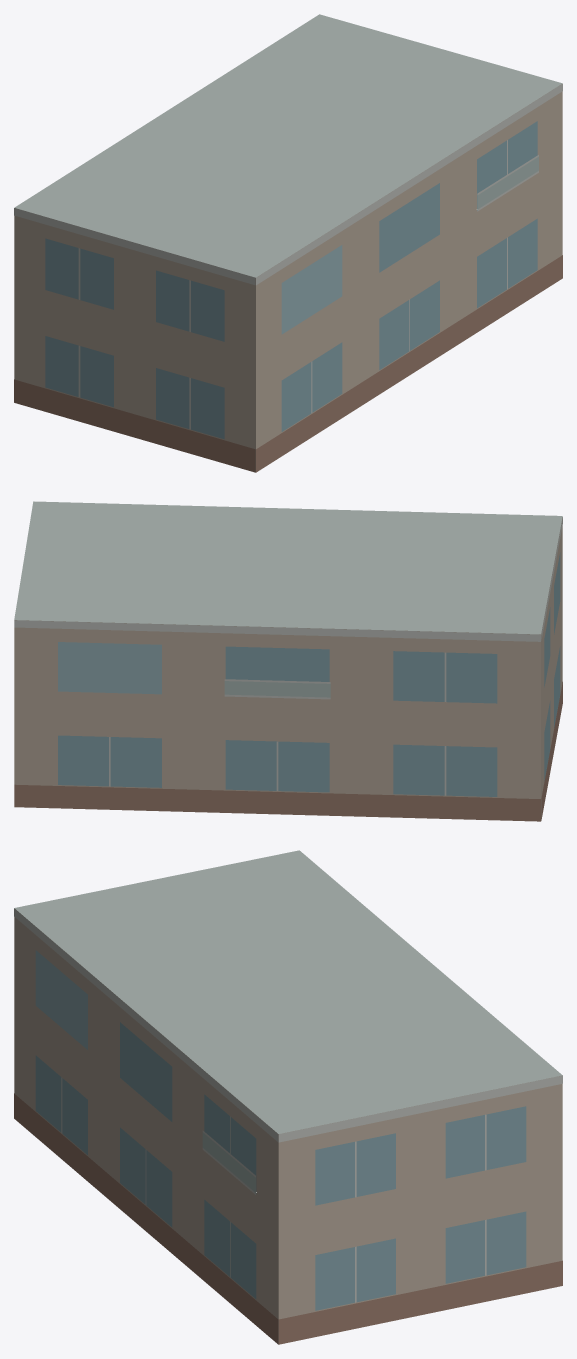
Rendered from survey-upis-32704794.glb.
3 views of the same model, one above another, from view 1: azimuth 30°, elevation 25°; view 2: azimuth 150°, elevation 25°; view 3: azimuth 270°, elevation 25° (orthographic). The views are drawn at different scales.
Parts seen in each view (by area): view 1: survey-upis-32704794.tmp; view 2: survey-upis-32704794.tmp; view 3: survey-upis-32704794.tmp.
Part boxes in pixels (bbox=[...]): survey-upis-32704794.tmp: bbox=[14, 14, 562, 472]; survey-upis-32704794.tmp: bbox=[14, 501, 562, 821]; survey-upis-32704794.tmp: bbox=[14, 850, 562, 1344].
Size of the model in its own units: 17.66 by 6.1 by 14.42.
